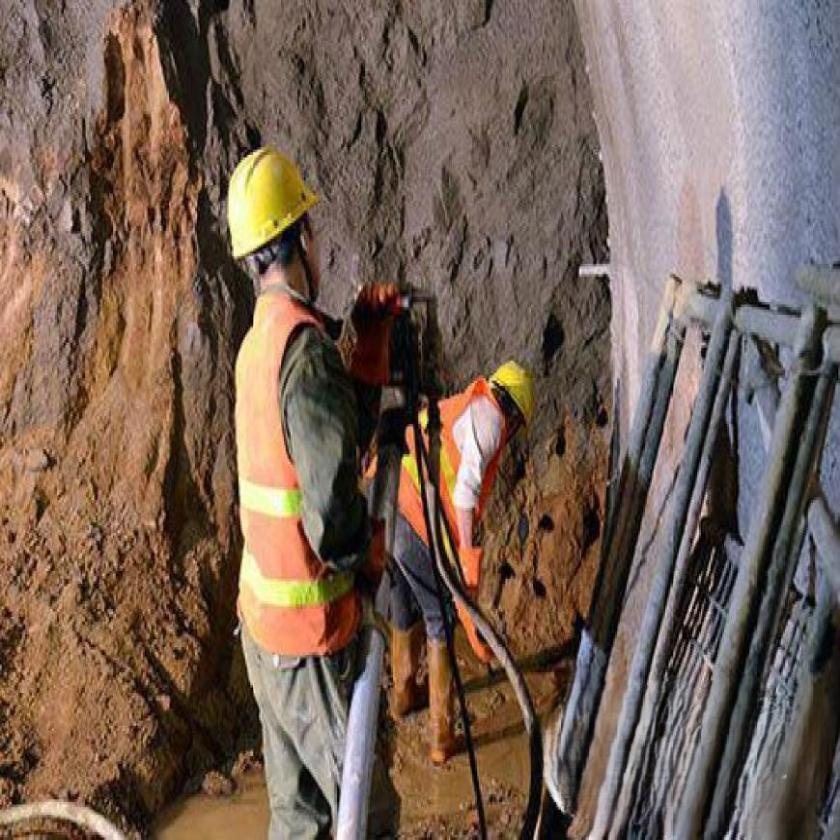Con_casco: (217, 143, 331, 325)
